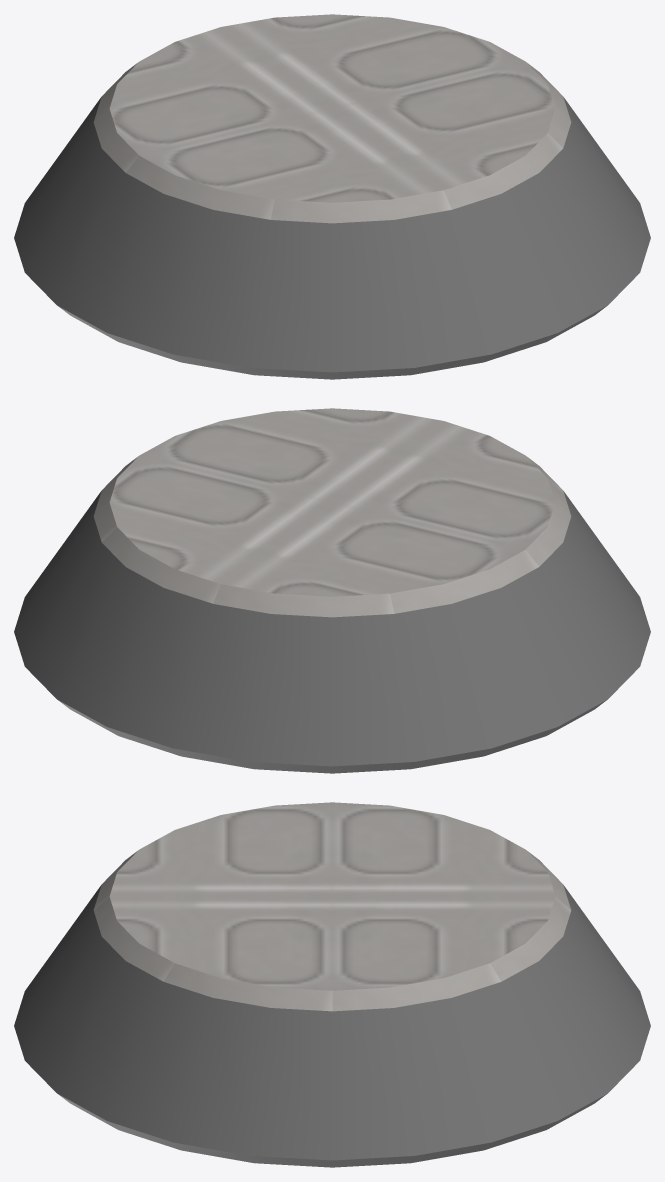
File: vega_adapter_s1_s0p5_1.obj
3 views of the same model, one above another, from view 1: azimuth 30°, elevation 25°; view 2: azimuth 150°, elevation 25°; view 3: azimuth 270°, elevation 25° (orthographic).
Parts seen in each view (by area): view 1: vega_adapter_s1_s0p5_1; view 2: vega_adapter_s1_s0p5_1; view 3: vega_adapter_s1_s0p5_1.
Part boxes in pixels (bbox=[...]): vega_adapter_s1_s0p5_1: bbox=[14, 14, 650, 379]; vega_adapter_s1_s0p5_1: bbox=[14, 408, 650, 773]; vega_adapter_s1_s0p5_1: bbox=[14, 802, 650, 1167].
Bounding box in the file's own units: 1.25 × 0.31 × 1.25.
